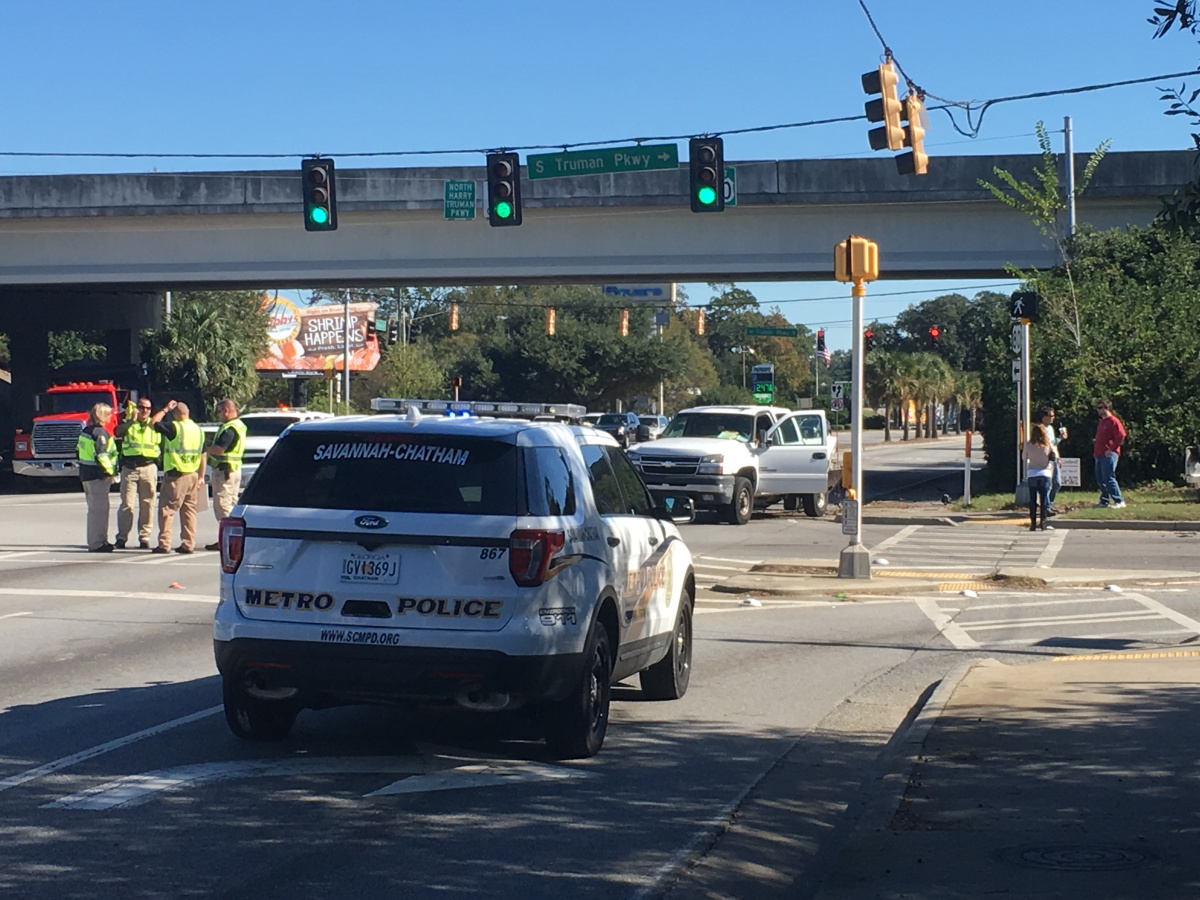traffic_light: (298, 154, 342, 235), (485, 151, 524, 228), (688, 137, 726, 214)
